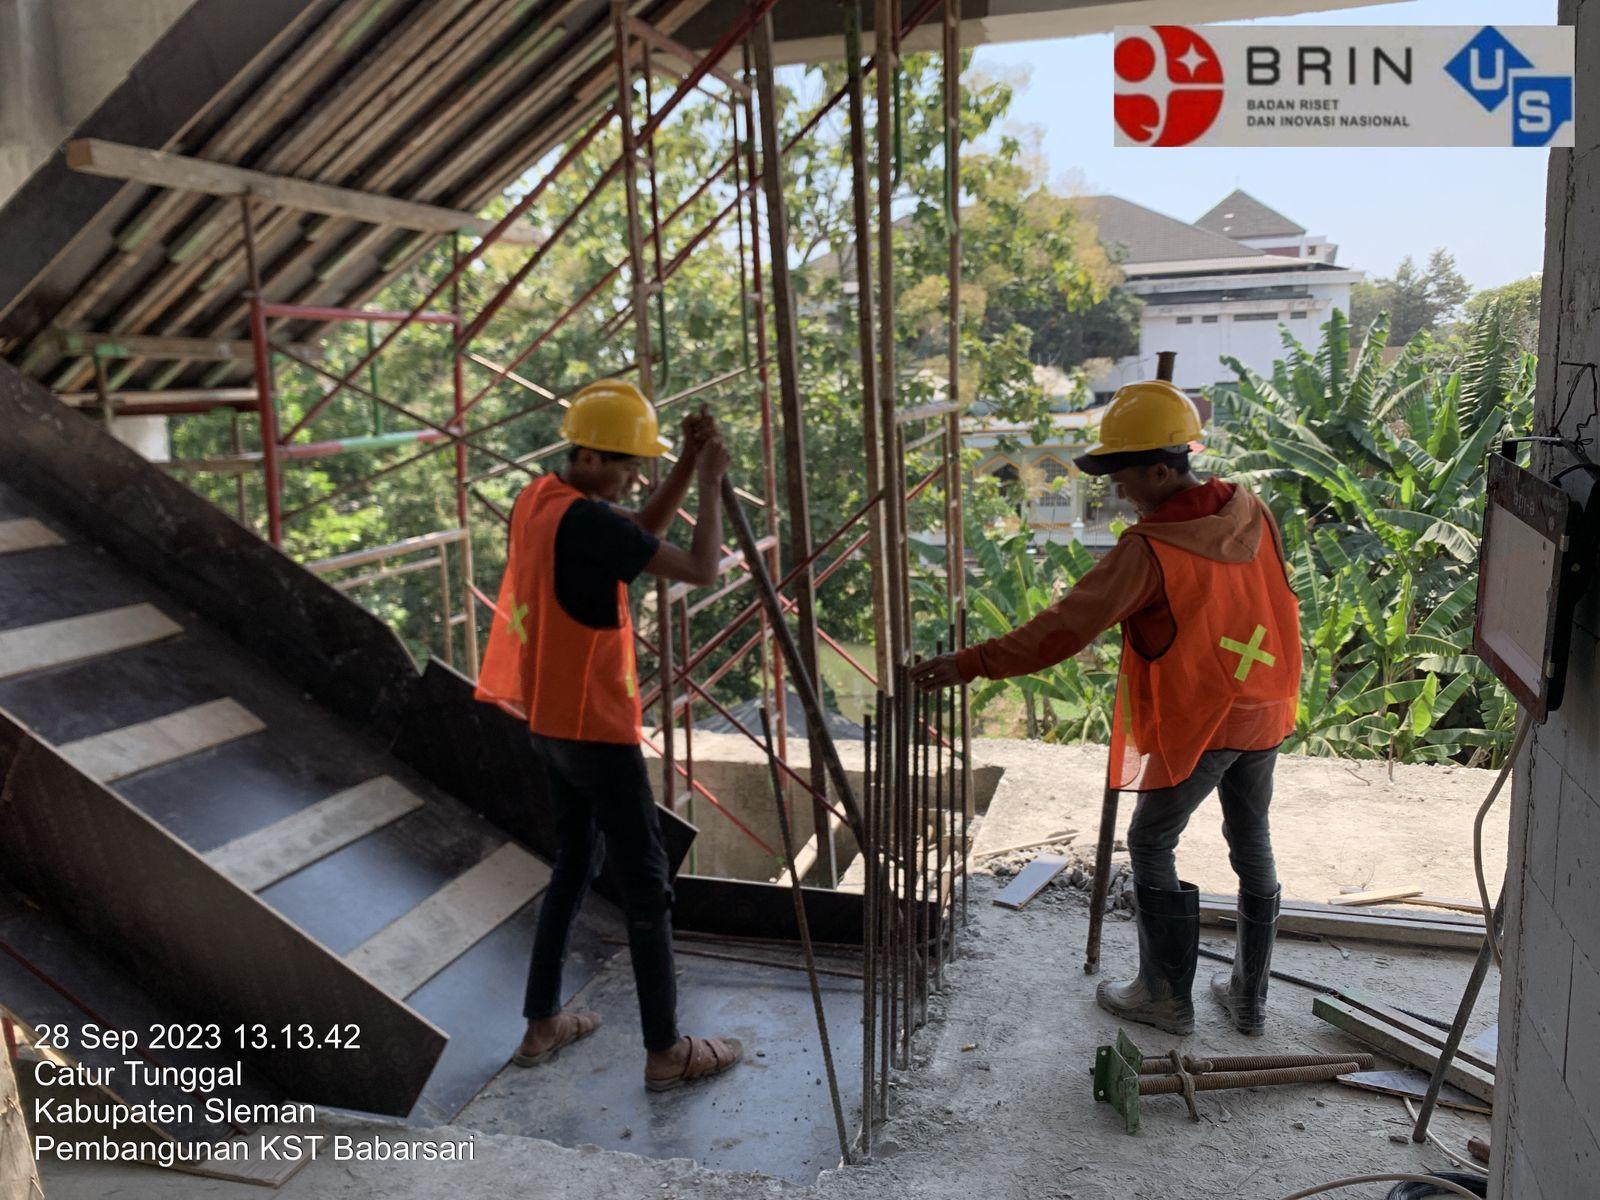hat: (538, 368, 714, 545), (1044, 361, 1228, 500)
vest: (1091, 474, 1348, 814), (494, 451, 668, 761)
